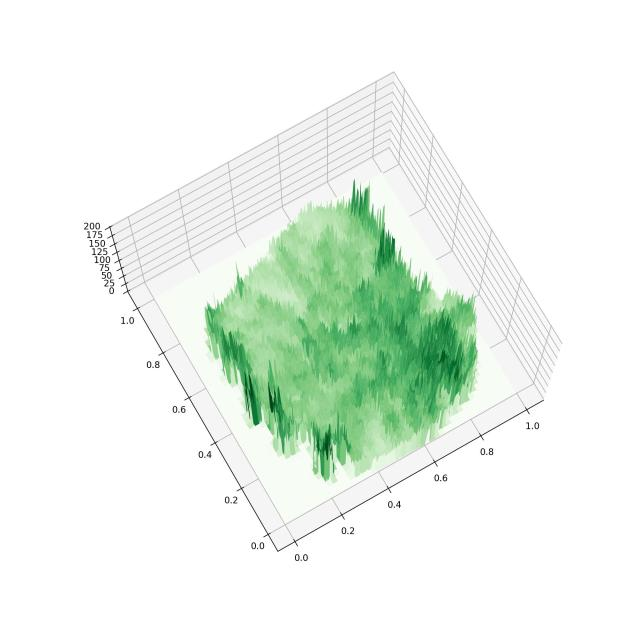spruce: (69, 42, 566, 600)
